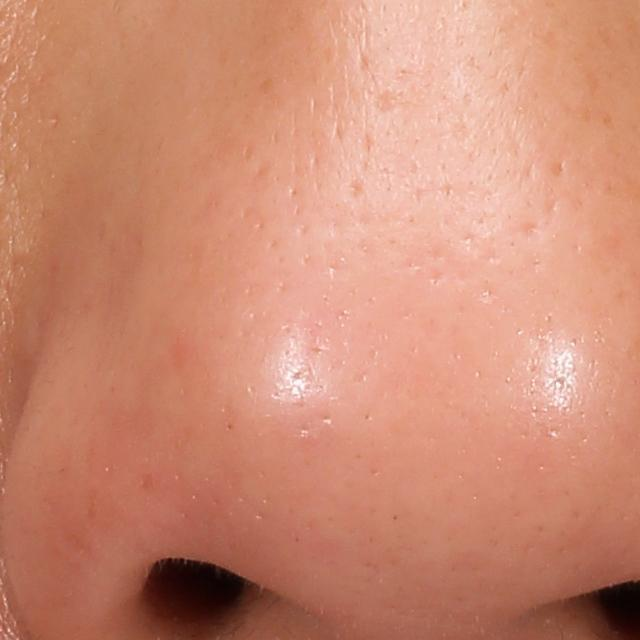atrophic_scar: (375, 88, 396, 119), (344, 178, 367, 205), (522, 220, 543, 241), (551, 158, 566, 176)
